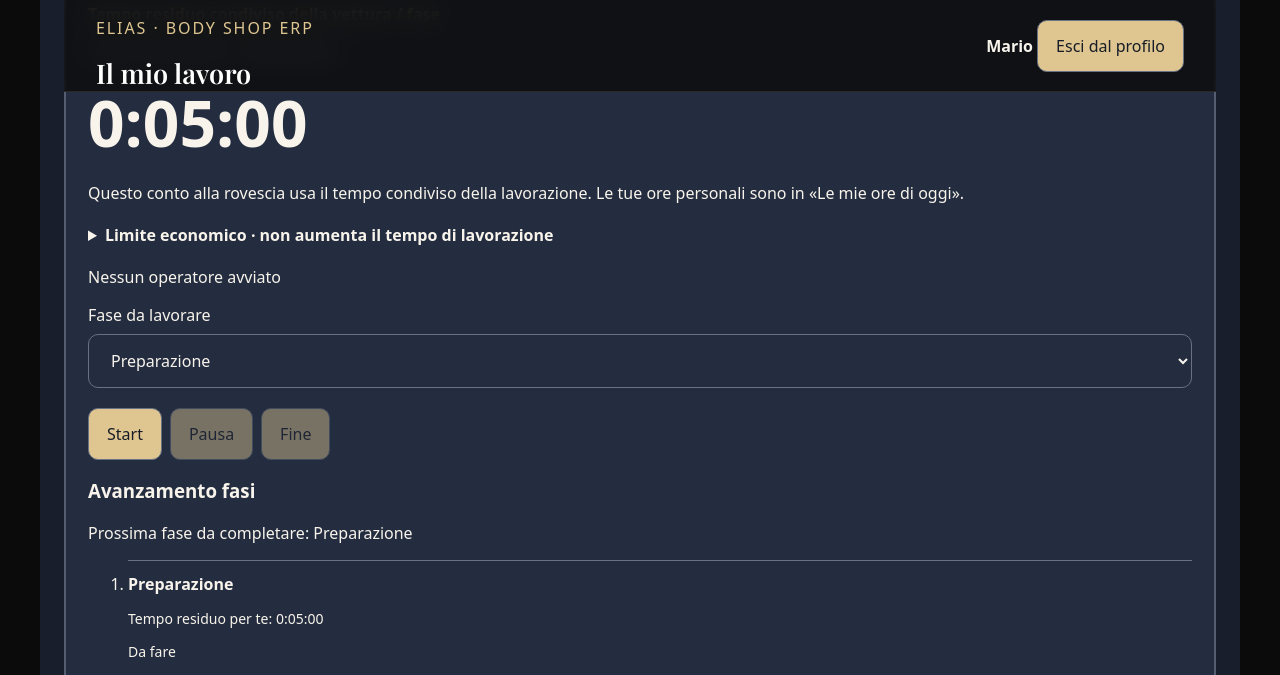
Test: shows the selected phase countdown separately from the whole vehicle
(page scrolled)
Expected: the text named "Tempo residuo condiviso" reads "0:05:00", [88, 78, 308, 166]
Select "Verniciatura" in the dropdown named "Fase da lavorare su PHASE123" at (640, 360), box [88, 334, 1192, 388]
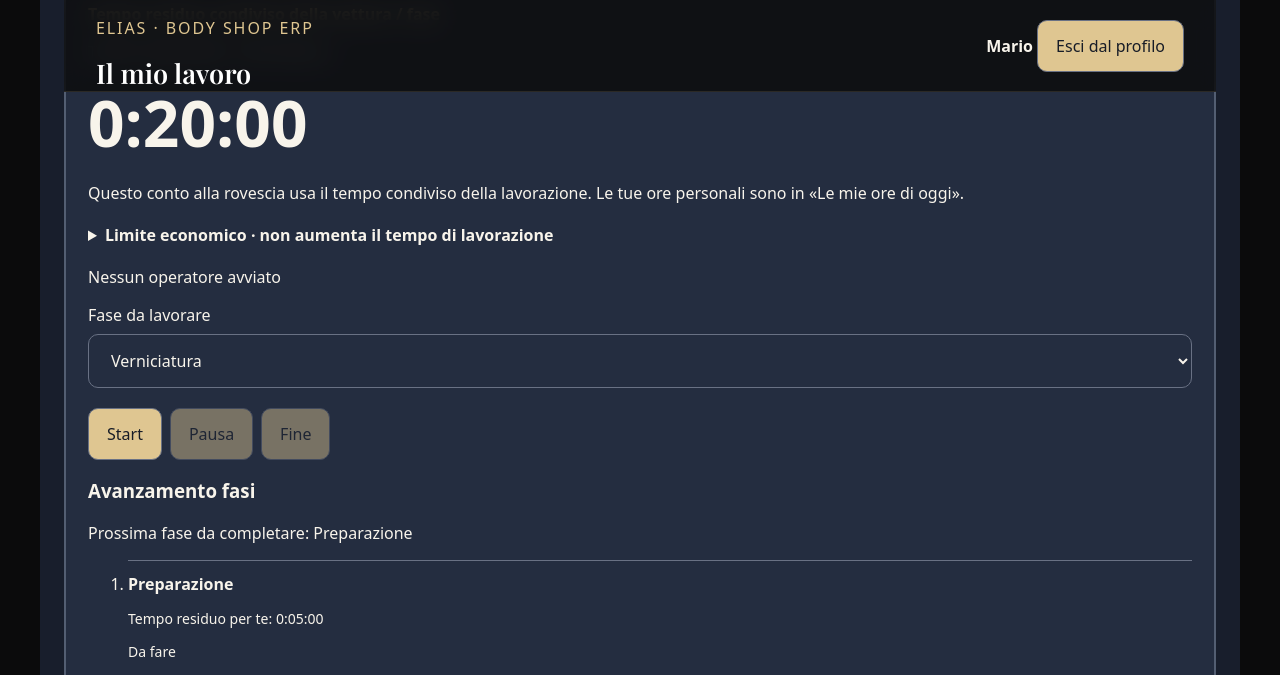
Result: the text named "Tempo residuo condiviso" reads "0:20:00" at [88, 78, 308, 166]
